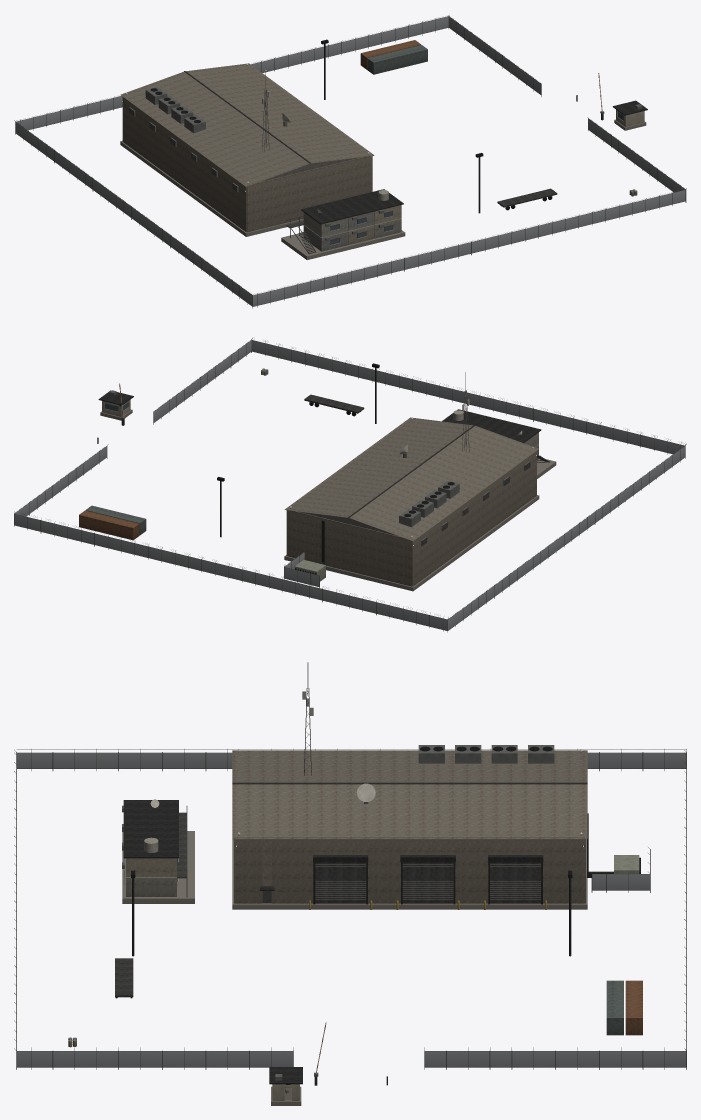
The model's file is vesper-facility.glb.
The picture shows the model from 3 angles, top to bottom: view 1: azimuth 30°, elevation 25°; view 2: azimuth 150°, elevation 25°; view 3: azimuth 270°, elevation 25°; orthographic projection. The views are drawn at different scales.
Visible parts, largest first — view 1: f_ext_warehouse, f_ext_fence, f_ext_housing, f_ext_yard, f_ext_tech, f_ext_shack; view 2: f_ext_warehouse, f_ext_fence, f_ext_yard, f_ext_tech, f_ext_housing, f_ext_shack; view 3: f_ext_warehouse, f_ext_fence, f_ext_housing, f_ext_tech, f_ext_yard, f_ext_shack.
Part boxes in pixels (left/top/right/bottom): f_ext_warehouse: left=120, top=63, right=374, bottom=236; f_ext_fence: left=14, top=15, right=686, bottom=308; f_ext_housing: left=281, top=189, right=405, bottom=259; f_ext_yard: left=321, top=39, right=637, bottom=213; f_ext_tech: left=122, top=63, right=369, bottom=192; f_ext_shack: left=612, top=100, right=647, bottom=130; f_ext_warehouse: left=284, top=417, right=539, bottom=591; f_ext_fence: left=14, top=338, right=686, bottom=632; f_ext_yard: left=79, top=363, right=379, bottom=540; f_ext_tech: left=289, top=371, right=536, bottom=581; f_ext_housing: left=442, top=409, right=556, bottom=478; f_ext_shack: left=98, top=390, right=133, bottom=420; f_ext_warehouse: left=232, top=750, right=587, bottom=909; f_ext_fence: left=14, top=749, right=686, bottom=1069; f_ext_housing: left=122, top=799, right=194, bottom=903; f_ext_tech: left=235, top=661, right=640, bottom=877; f_ext_yard: left=68, top=870, right=642, bottom=1047; f_ext_shack: left=269, top=1067, right=302, bottom=1105.
Bounding box in the file's own units: 109 × 29.06 × 92.4.
13 materials, 5 textured.
